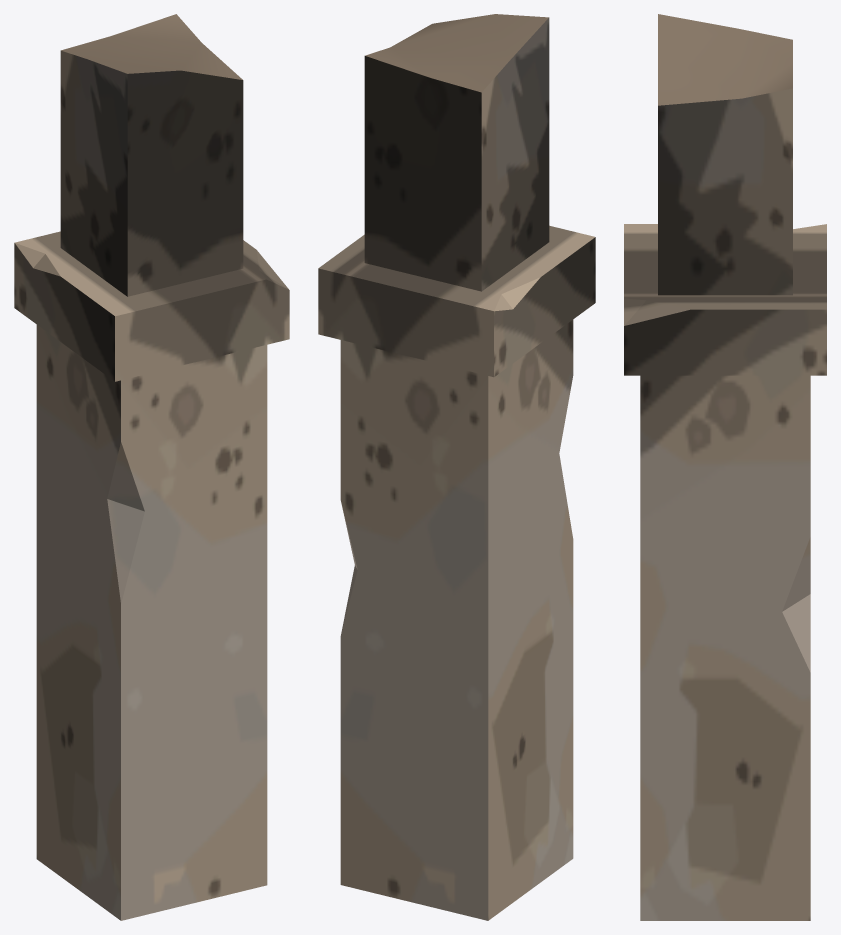
Rendered from SM_Bld_Village_Archway_Pillar_01_Destroyed.glb.
The picture shows the model from 3 angles, left to right: view 1: azimuth 30°, elevation 25°; view 2: azimuth 150°, elevation 25°; view 3: azimuth 270°, elevation 25°; orthographic projection.
Parts seen in each view (by area): view 1: SM_Bld_Village_Archway_Pillar_01_Destroyed; view 2: SM_Bld_Village_Archway_Pillar_01_Destroyed; view 3: SM_Bld_Village_Archway_Pillar_01_Destroyed.
Boxes of the visible parts, x1,y1,x2,y2 form: SM_Bld_Village_Archway_Pillar_01_Destroyed: (14, 14, 289, 920); SM_Bld_Village_Archway_Pillar_01_Destroyed: (318, 14, 595, 920); SM_Bld_Village_Archway_Pillar_01_Destroyed: (624, 14, 826, 920).
Size of the model in its own units: 0.7077 by 3.25 by 0.7077.
Materials: 1 (1 with a texture image).
